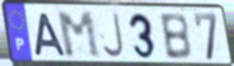3: (128, 10, 161, 62)
7: (192, 11, 220, 63)
A: (33, 12, 68, 58)
B: (157, 11, 194, 62)
J: (101, 11, 126, 60)
M: (55, 10, 104, 60)
